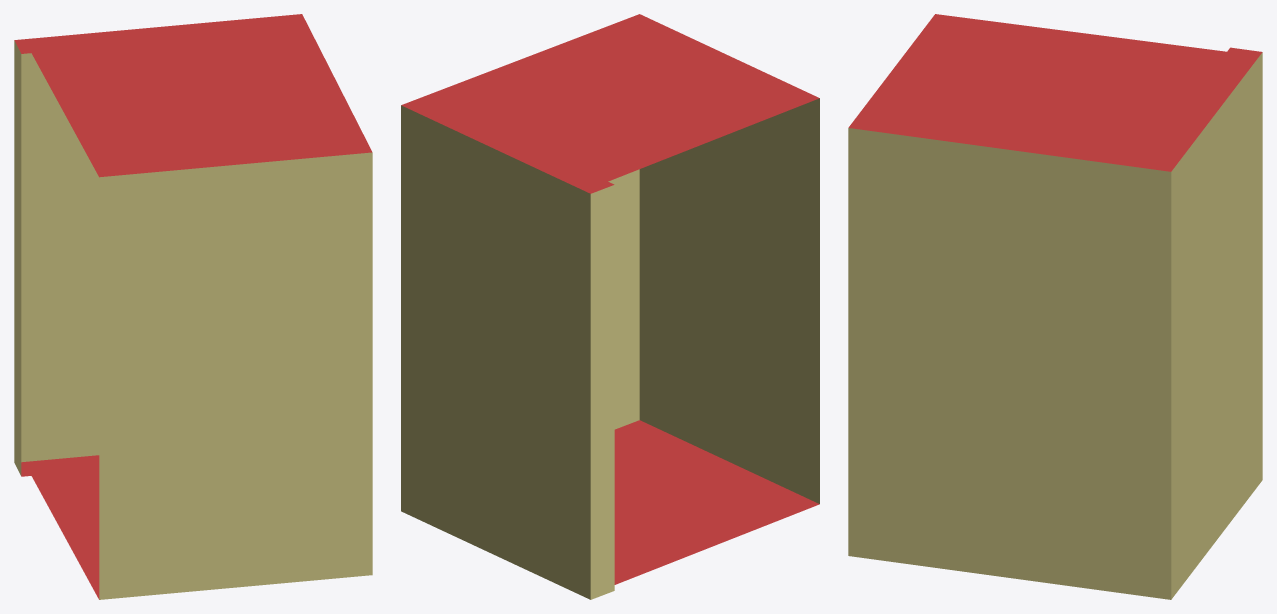
3 views of the same model, side by side, from view 1: azimuth 30°, elevation 25°; view 2: azimuth 150°, elevation 25°; view 3: azimuth 270°, elevation 25° (orthographic). The views are drawn at different scales.
Bounding box in the file's own units: 6.81 × 7.56 × 8.61.
